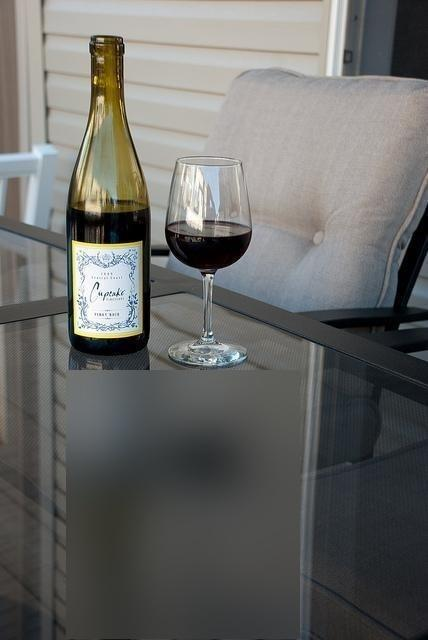bottle-glass: (63, 33, 153, 355)
glass-wine: (164, 156, 253, 370)
